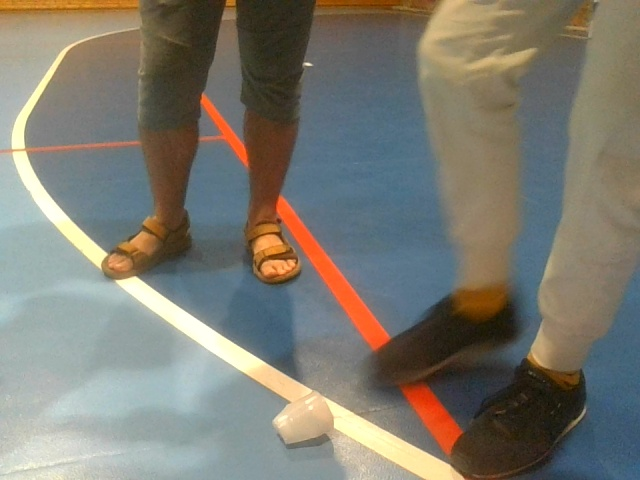plasticcup: (271, 389, 336, 448)
